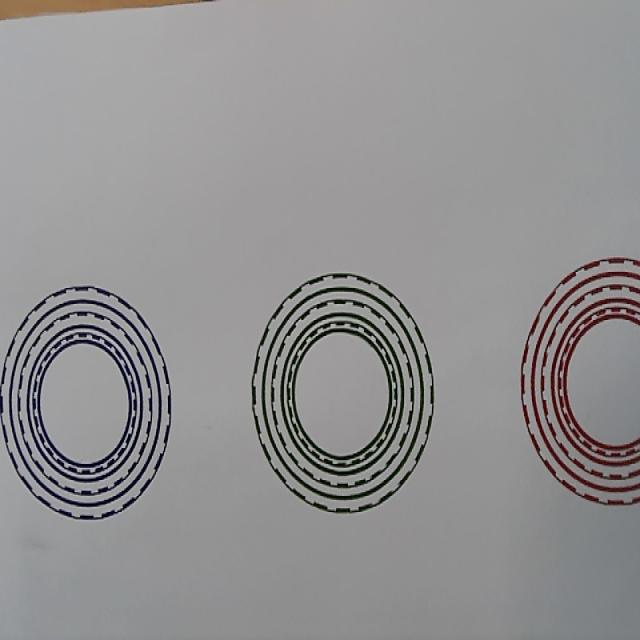b: (0, 285, 171, 519)
g: (250, 270, 435, 516)
